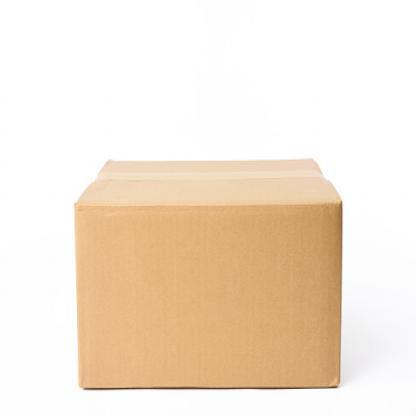package: (73, 157, 345, 389)
